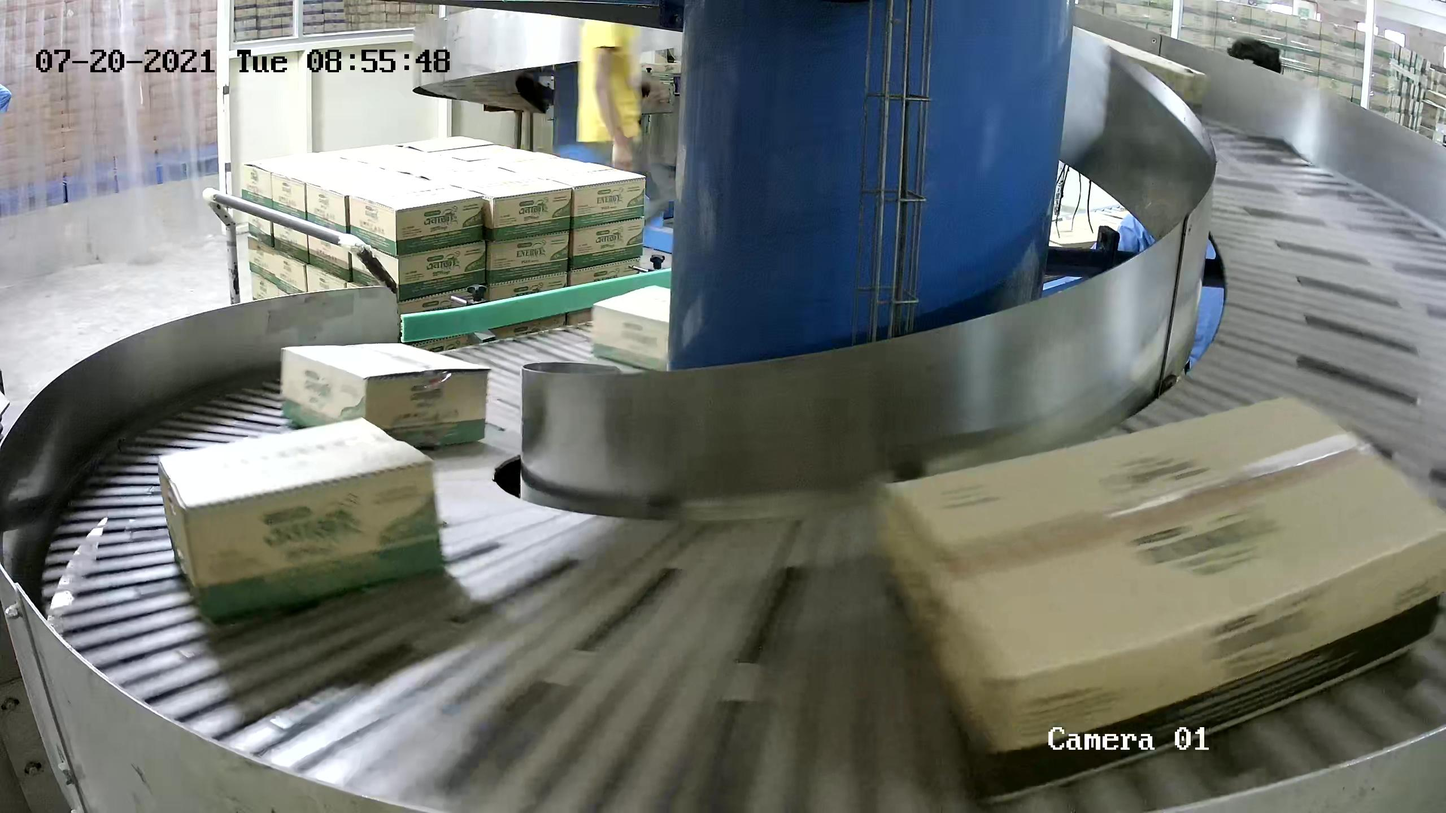Box: (873, 393, 1446, 813), (156, 415, 445, 619), (281, 342, 493, 445), (589, 284, 670, 371)
